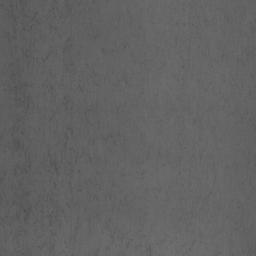Silk spot: (0, 0, 128, 256), (171, 192, 213, 256), (103, 218, 160, 256), (176, 140, 202, 192), (183, 4, 208, 34)
